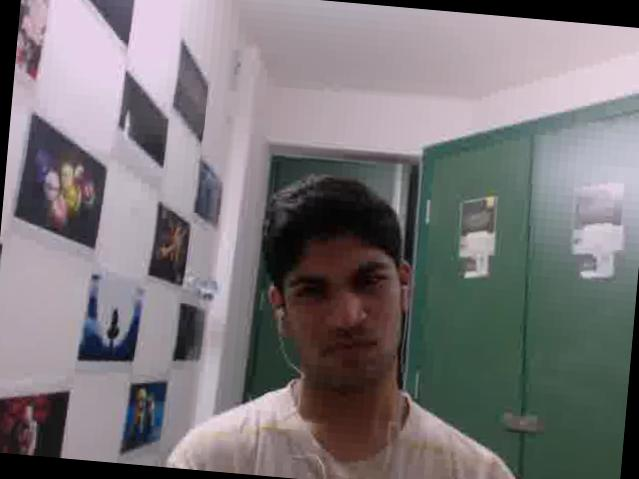bingung: (265, 224, 408, 389)
